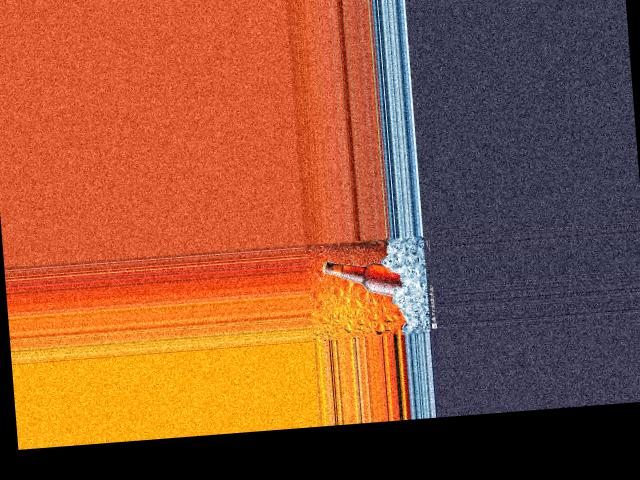beer: (321, 252, 404, 300)
